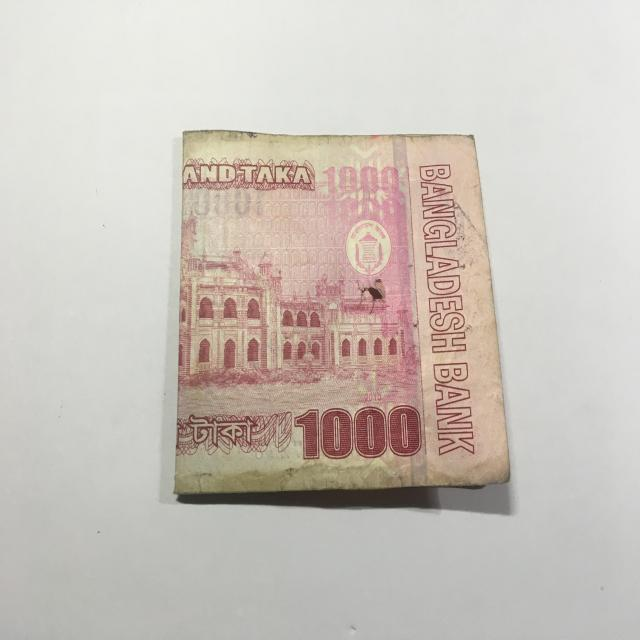Taka: (176, 124, 511, 500)
